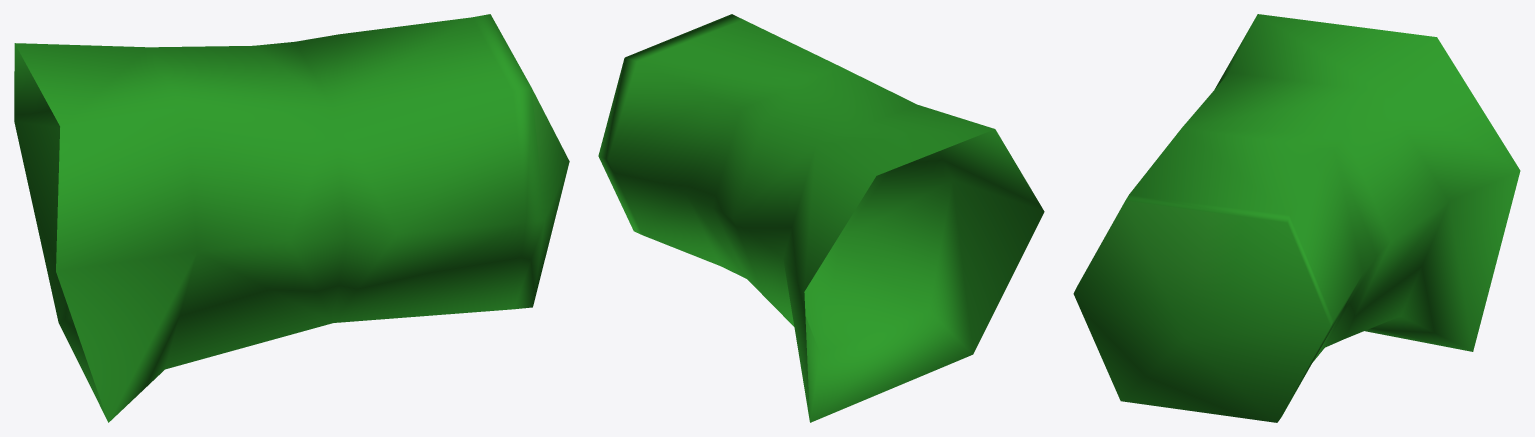
The model's file is YD_Brazo.obj.
3 renders of one model, left to right at view 1: azimuth 30°, elevation 25°; view 2: azimuth 150°, elevation 25°; view 3: azimuth 270°, elevation 25°, orthographic. The views are drawn at different scales.
Visible parts, largest first — view 1: yoshi_brazoDer; view 2: yoshi_brazoDer; view 3: yoshi_brazoDer.
Part boxes in pixels (left/top/right/bottom): yoshi_brazoDer: left=14, top=14, right=569, bottom=422; yoshi_brazoDer: left=598, top=14, right=1044, bottom=422; yoshi_brazoDer: left=1073, top=14, right=1520, bottom=422.
Bounding box in the file's own units: 0.3191 × 0.1875 × 0.2654.
1 material, 1 textured.
